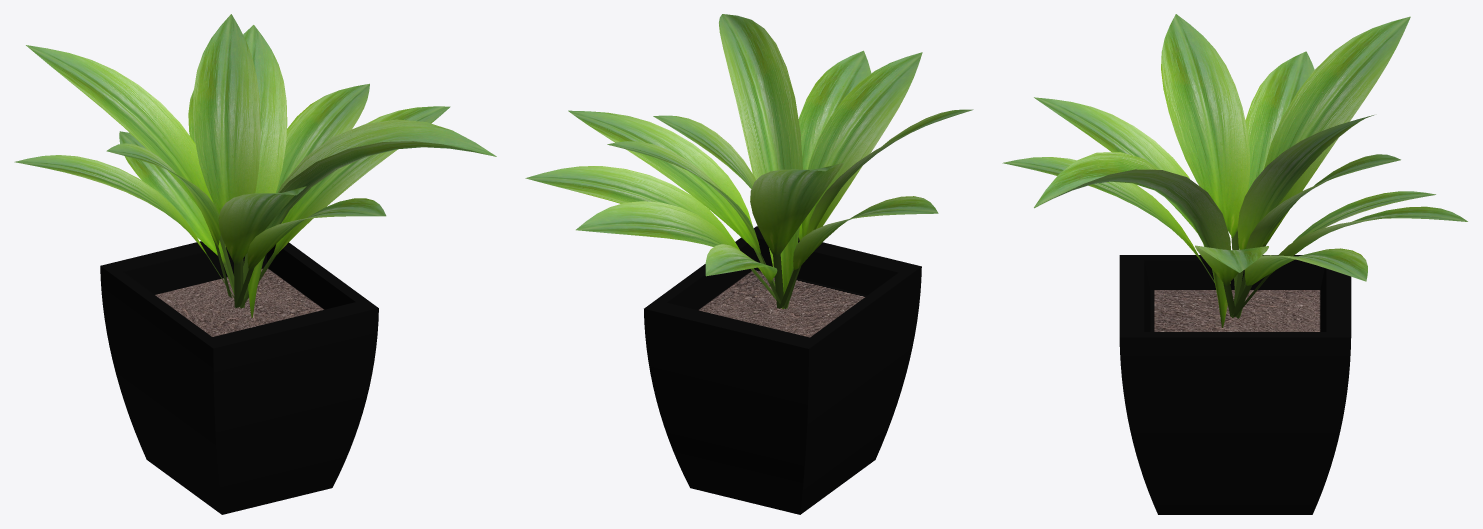
Rendered from Plant 3.fbx.
The picture shows the model from 3 angles, left to right: view 1: azimuth 30°, elevation 25°; view 2: azimuth 150°, elevation 25°; view 3: azimuth 270°, elevation 25°; orthographic projection. The views are drawn at different scales.
Visible parts, largest first — view 1: Plant 3; view 2: Plant 3; view 3: Plant 3.
Part boxes in pixels (<box>): Plant 3: <box>14,14,496,514</box>; Plant 3: <box>525,14,973,514</box>; Plant 3: <box>1002,14,1467,514</box>.
Bounding box in the file's own units: 27.9 × 26.22 × 27.26.
Materials: 2 (2 with a texture image).
